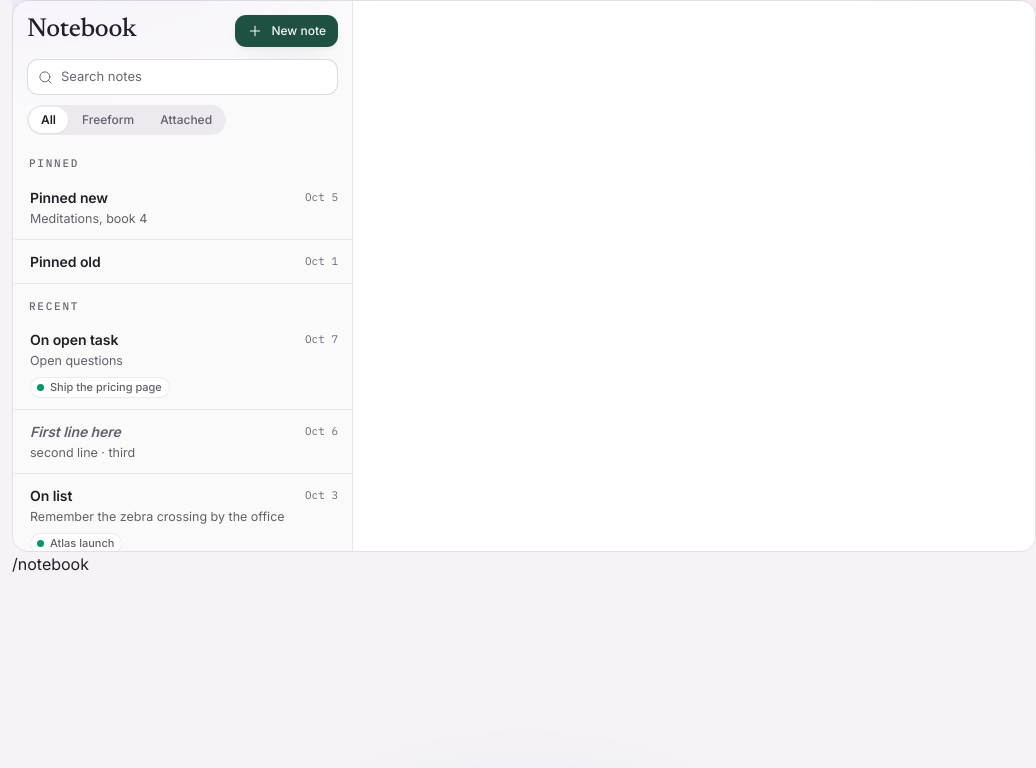
Scenario: Notebook — empty states › empty search
Expected: the heading "Notebook" is shown, [27,18,136,44]
Expected: the button with test id "note-row" is shown, [13,176,352,240]
Type "xyz" into the search field labelled "Search notes" at (194, 77), box [61,67,327,87]
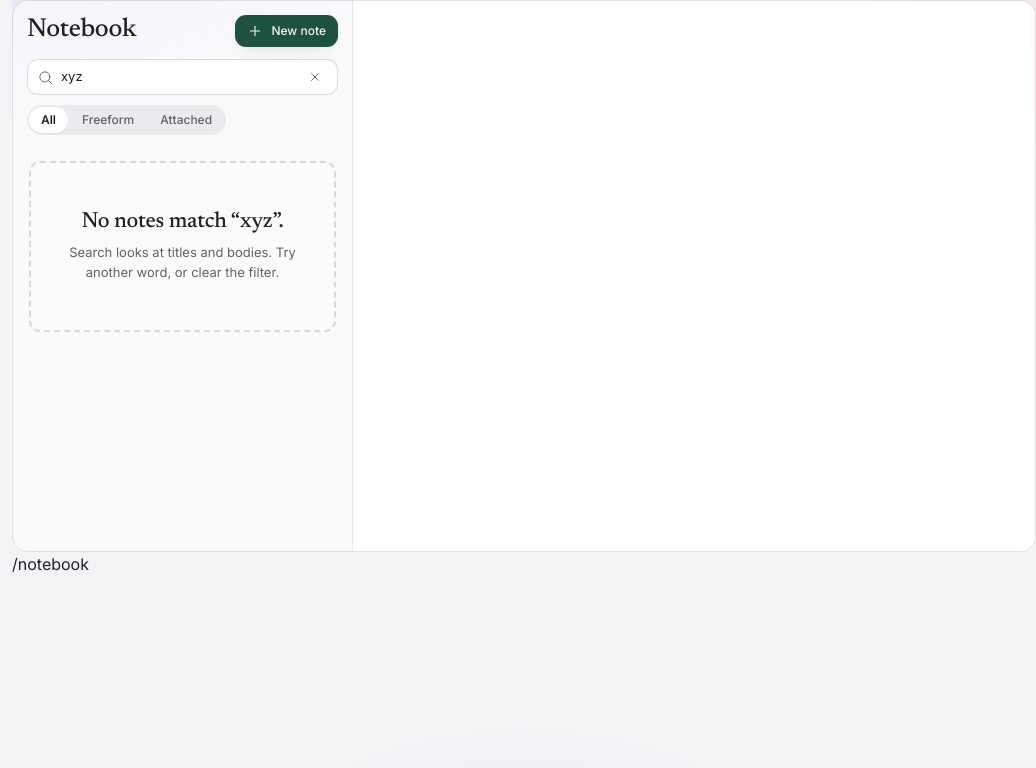
Result: the heading "No notes match “xyz”." is shown at [81,211,284,233]
Result: the text "Search looks at titles and bodies. Try another word, or clear the filter." is shown at [55,242,310,282]
